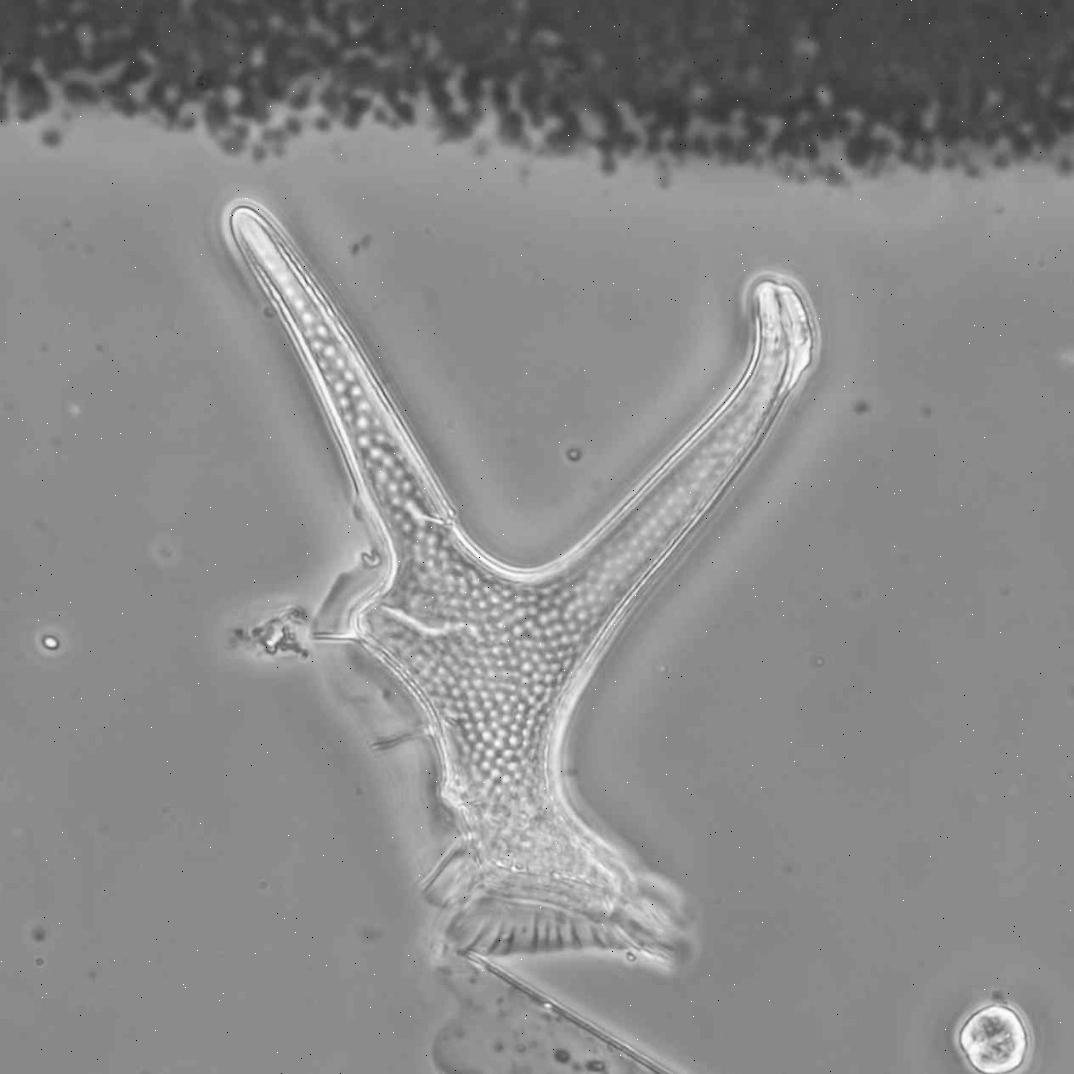dinophysis_miles: (232, 206, 819, 969)
